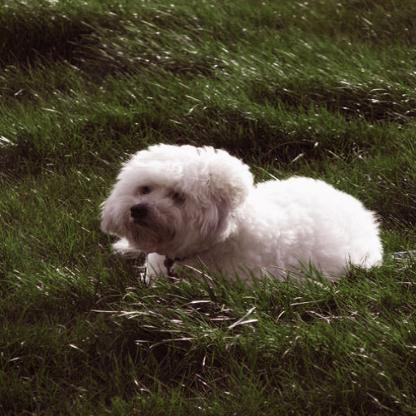dog: (102, 144, 384, 285)
